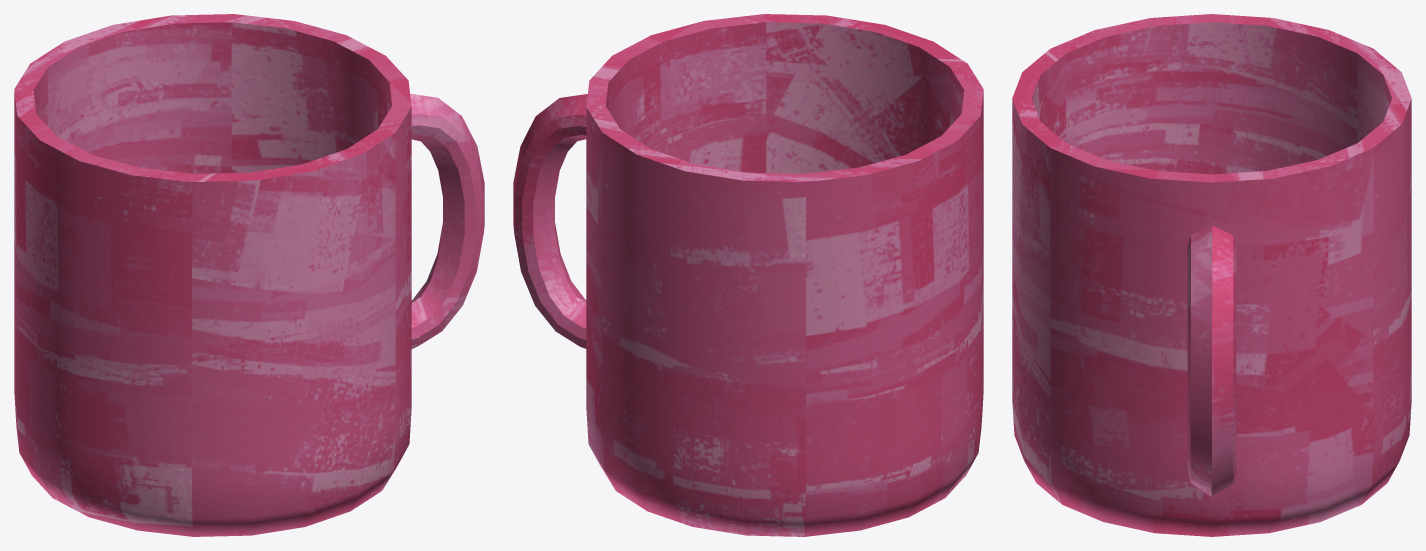
The model's file is PinkMug.obj.
The picture shows the model from 3 angles, left to right: view 1: azimuth 30°, elevation 25°; view 2: azimuth 150°, elevation 25°; view 3: azimuth 270°, elevation 25°; orthographic projection.
Visible parts, largest first — view 1: Mug:pCylinder12; view 2: Mug:pCylinder12; view 3: Mug:pCylinder12.
Part boxes in pixels (x1,y1,x2,y2): Mug:pCylinder12: [14, 14, 484, 536]; Mug:pCylinder12: [513, 14, 983, 536]; Mug:pCylinder12: [1012, 14, 1411, 536].
Size of the model in its own units: 1.33 by 1.03 by 1.04.
